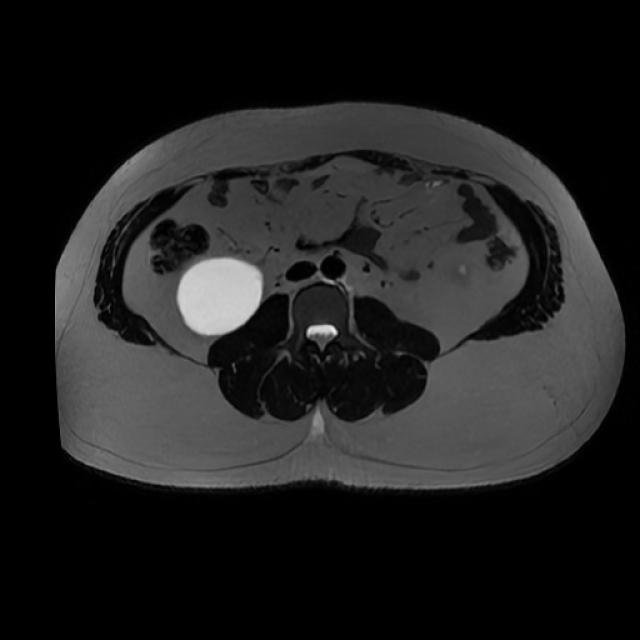sag: (174, 256, 264, 336)
